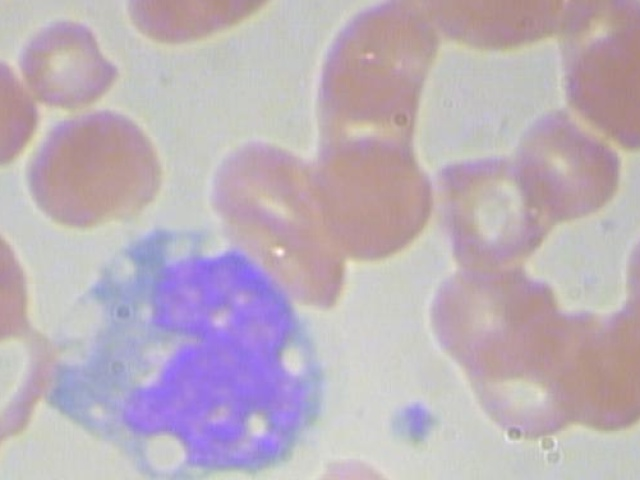Platelets: (388, 392, 445, 452)
RBC: (300, 127, 440, 263), (425, 250, 555, 379), (18, 114, 140, 237), (508, 104, 625, 228), (465, 328, 589, 445), (9, 11, 118, 111), (423, 0, 561, 56), (117, 0, 230, 47), (0, 49, 41, 176), (0, 208, 36, 330), (0, 210, 34, 332), (0, 374, 2, 480)
WBC: (37, 227, 336, 480)
